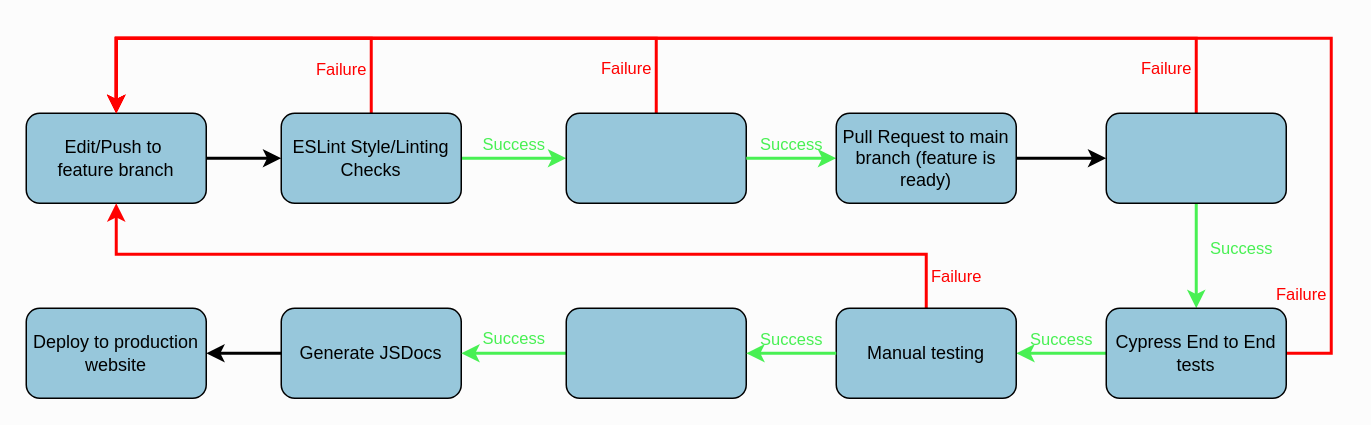
This 1371x425 diagram has some shape labels left out. The box of each missing label's shape, as (x1, y1, x2, y2) in pixels:
Compile SCSS/Deploy test website: (1105, 112, 1286, 203)
Jest Unit Tests: (565, 112, 746, 203)
Merge PR to main: (565, 307, 746, 398)
